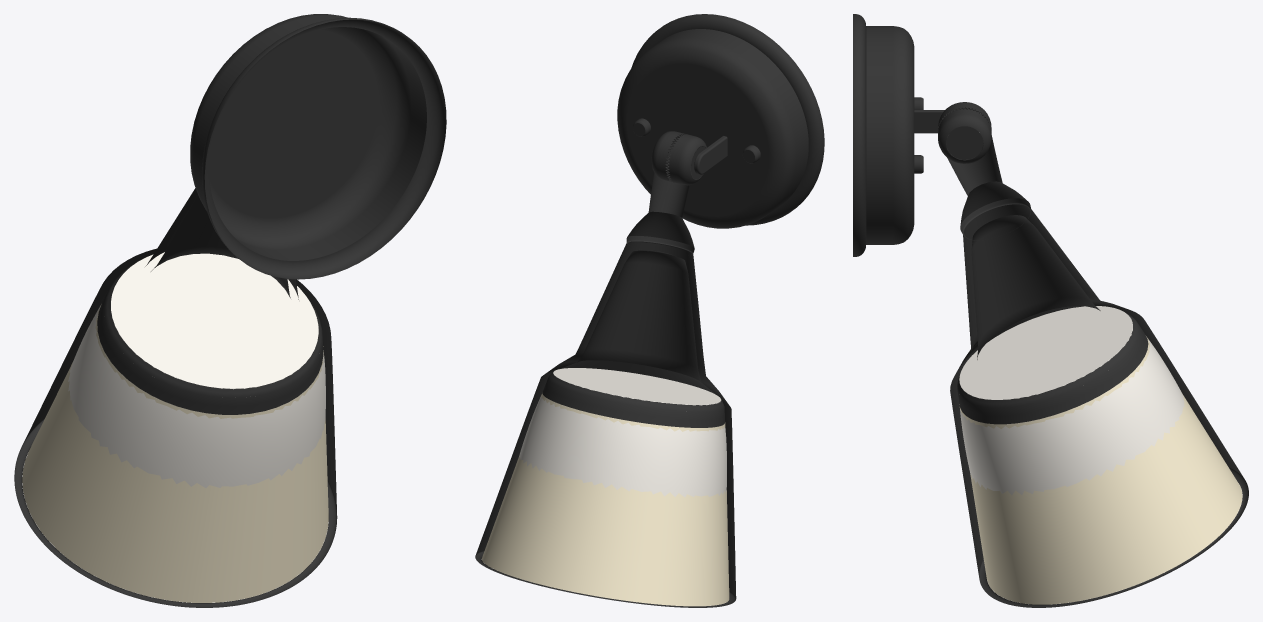
File: swivel-floodlight.glb
The picture shows the model from 3 angles, left to right: view 1: azimuth 30°, elevation 25°; view 2: azimuth 150°, elevation 25°; view 3: azimuth 270°, elevation 25°; orthographic projection. The views are drawn at different scales.
Visible parts, largest first — view 1: lamp exterior.001, bulb.001, Lamp interior.001; view 2: lamp exterior.001, Lamp interior.001, bulb.001; view 3: lamp exterior.001, Lamp interior.001, bulb.001.
Boxes of the visible parts, box(x1,y1,x2,y2) form: lamp exterior.001: box(14, 14, 446, 607); bulb.001: box(68, 252, 325, 487); Lamp interior.001: box(22, 304, 328, 602); lamp exterior.001: box(475, 14, 824, 607); Lamp interior.001: box(481, 393, 729, 606); bulb.001: box(519, 368, 726, 497); lamp exterior.001: box(853, 14, 1248, 607); Lamp interior.001: box(959, 337, 1242, 604); bulb.001: box(959, 306, 1184, 495).
Size of the model in its own units: 0.1487 by 0.3176 by 0.2067.
